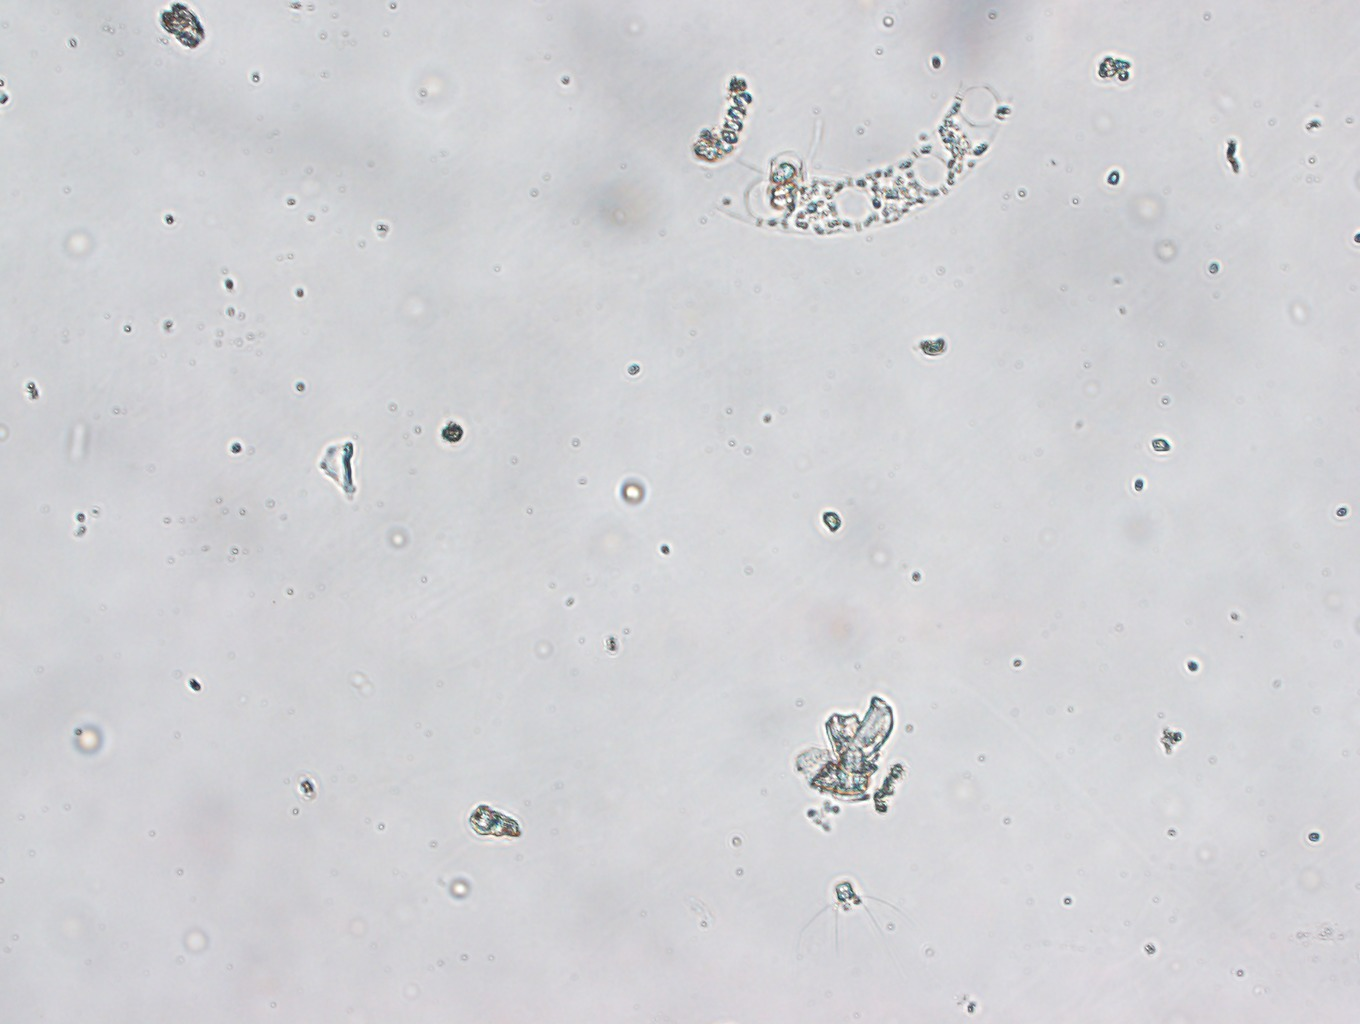eucampia: (688, 76, 1026, 254)
